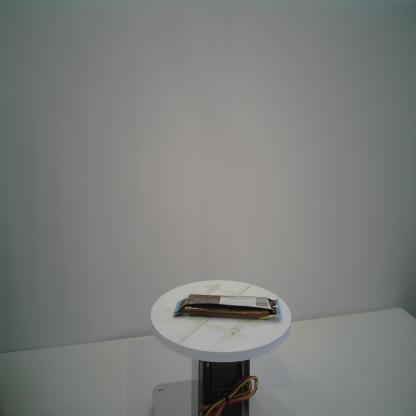Chocolate: (171, 292, 284, 322)
